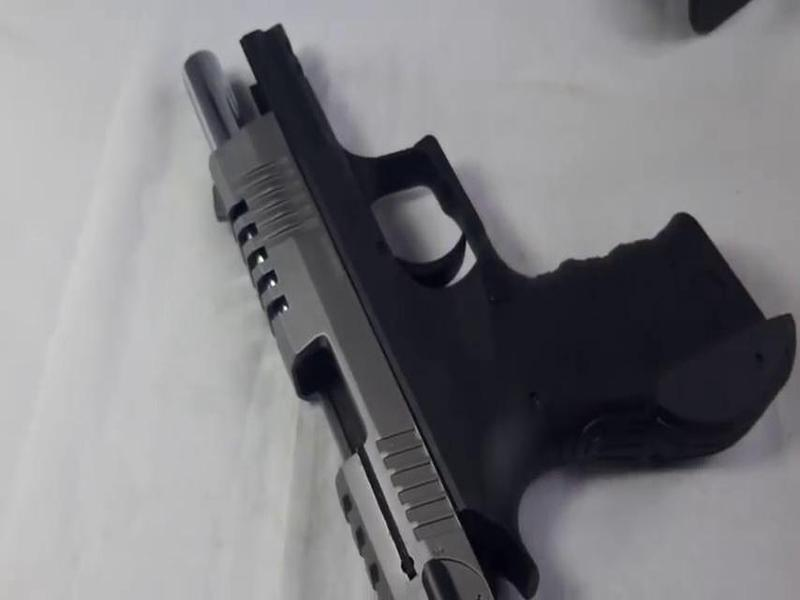Pistola: (162, 18, 796, 594)
